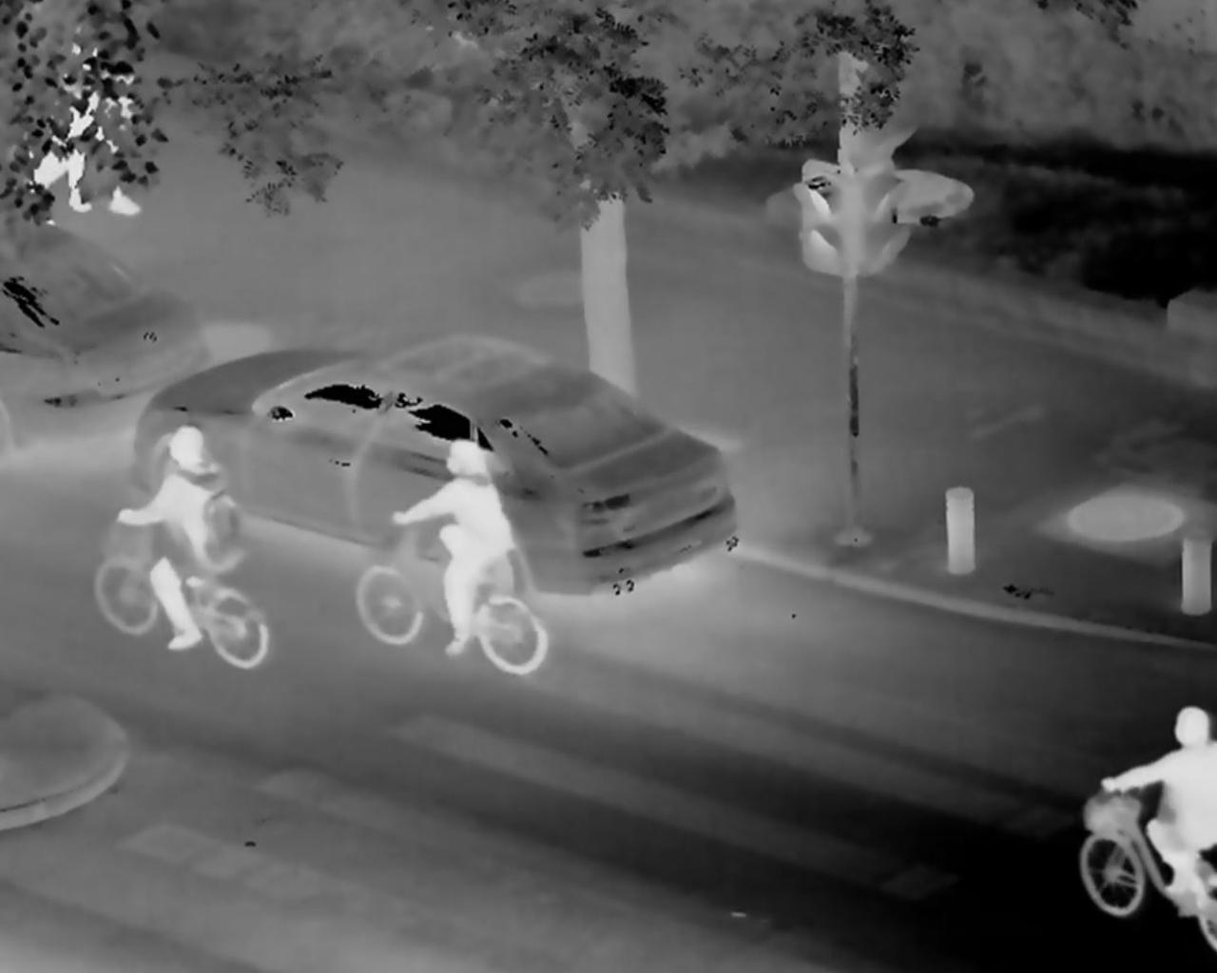person: (107, 421, 251, 660), (383, 436, 526, 670), (1097, 704, 1217, 914), (58, 32, 152, 222)
